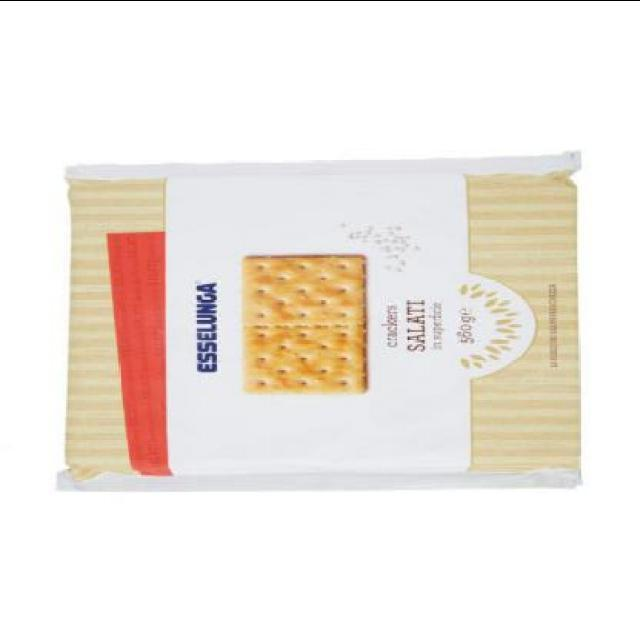Cracker: (52, 146, 580, 494)
